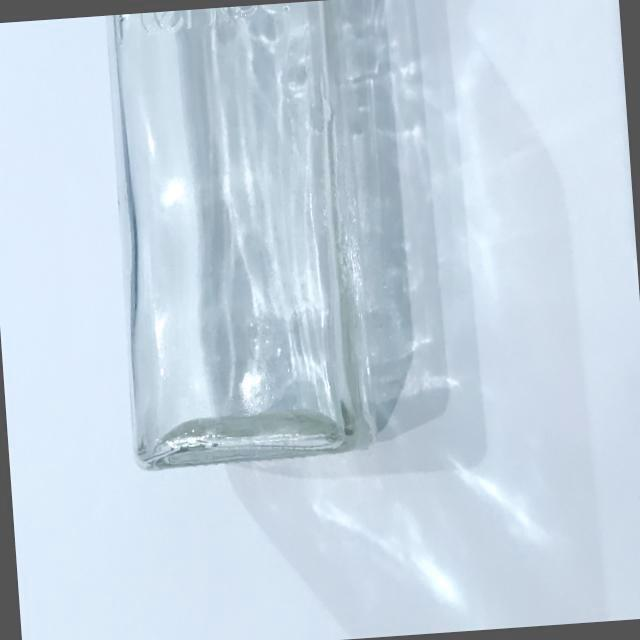glass: (72, 0, 415, 492)
